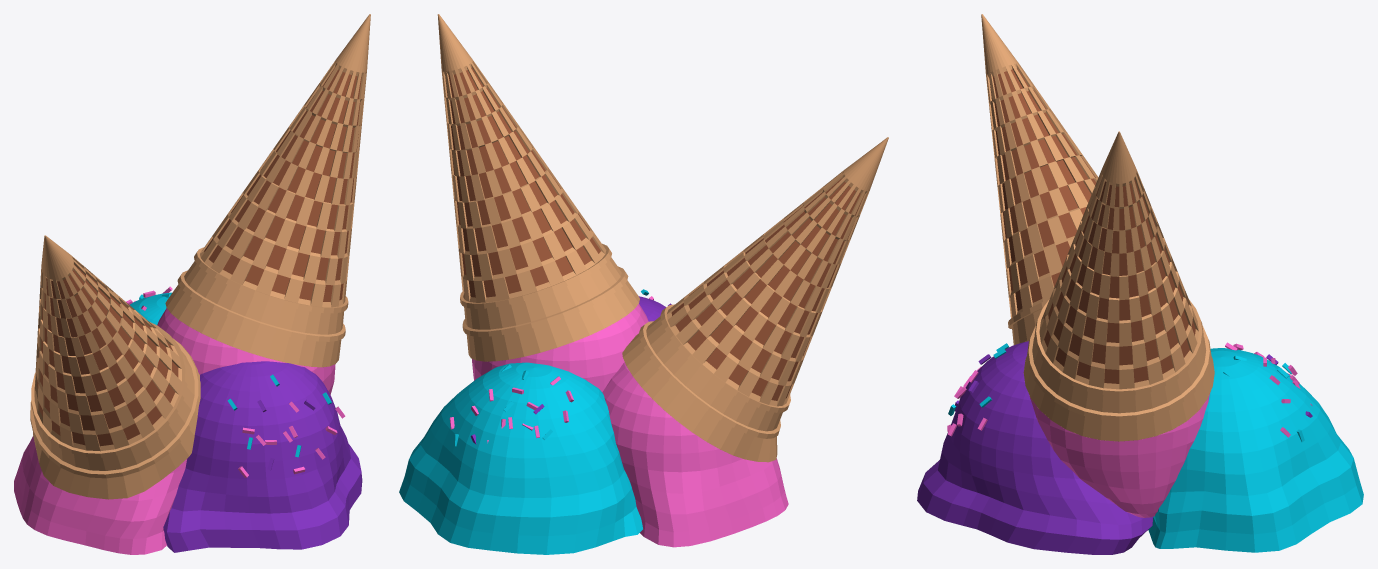
Rendered from dondurma.fbx.
The picture shows the model from 3 angles, left to right: view 1: azimuth 30°, elevation 25°; view 2: azimuth 150°, elevation 25°; view 3: azimuth 270°, elevation 25°; orthographic projection. The views are drawn at different scales.
Visible parts, largest first — view 1: Cylinder, Cylinder.001, Sphere.003, Sphere.001, Sphere, Sphere.002; view 2: Cylinder.001, Cylinder, Sphere.002, Sphere.001, Sphere; view 3: Cylinder, Sphere.002, Sphere.003, Cylinder.001, Sphere.
Part boxes in pixels (x1,y1,x2,y2): Cylinder: (165,14,370,367); Cylinder.001: (30,235,200,499); Sphere.003: (163,361,362,552); Sphere.001: (14,436,186,554); Sphere: (157,308,335,394); Sphere.002: (130,292,171,324); Cylinder.001: (622,137,888,462); Cylinder: (437,14,639,361); Sphere.002: (399,362,642,554); Sphere.001: (602,362,788,547); Sphere: (472,304,648,391); Cylinder: (1023,131,1214,441); Sphere.002: (1148,348,1363,552); Sphere.003: (917,341,1153,554); Cylinder.001: (981,14,1098,344); Sphere: (1029,394,1209,517).
Bounding box in the file's own units: 545 × 574 × 516.
